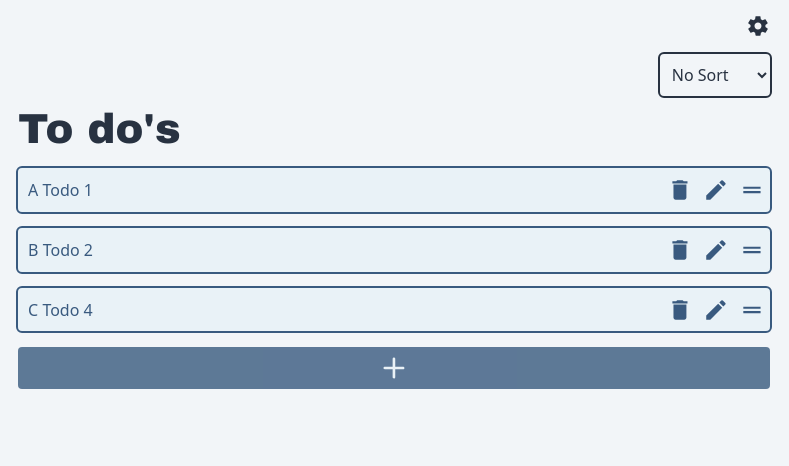
Test: Index Page › add button
The width and height of the screenshot is (789, 466).
Click the button titled "Add Todo" at (394, 368), box [18,348,770,389]
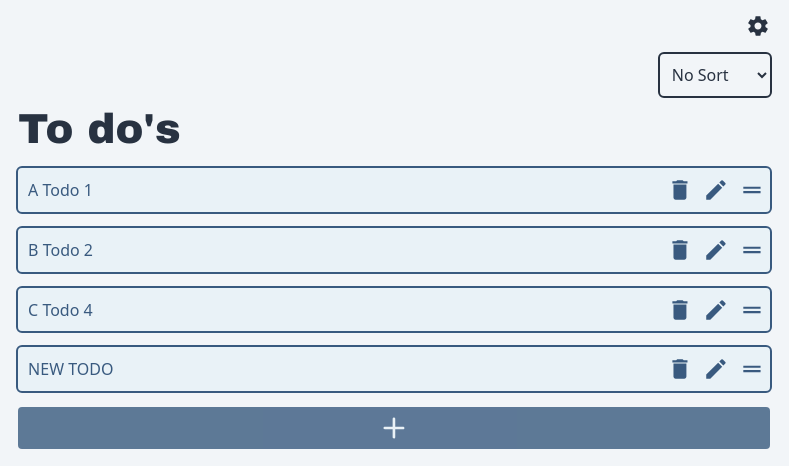
Result: the number of links named "To do" is 4 at [18,168,770,212]; [18,228,770,272]; [18,288,770,332]; [18,348,770,391]
Result: the link with aria-label "To do" reads "NEW TODO" at [28,358,114,380]
